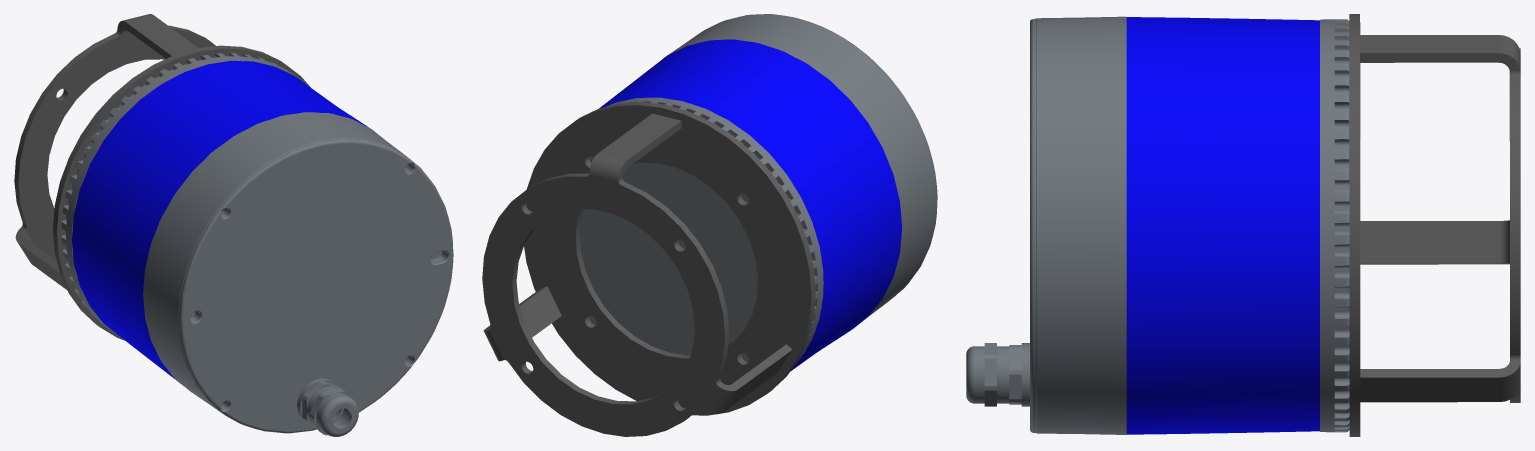
Rendered from sensor_lidar_visual.obj.
The picture shows the model from 3 angles, left to right: view 1: azimuth 30°, elevation 25°; view 2: azimuth 150°, elevation 25°; view 3: azimuth 270°, elevation 25°; orthographic projection. The views are drawn at different scales.
Parts seen in each view (by area): view 1: BTM_13_73_119_6.001, ZHAO_1_1_4_4_2.001, 雷达_雷神M10支架_1.001, 雷达_雷神M10支架_001.001, __V20_1_11_29_2.001, WATERPROOF-CONNECTOR_1.001; view 2: 雷达_雷神M10支架_001.001, ZHAO_1_1_4_4_2.001, 雷达_雷神M10支架_1.001, __V20_1_11_29_2.001, BTM_13_73_119_6.001; view 3: ZHAO_1_1_4_4_2.001, BTM_13_73_119_6.001, 雷达_雷神M10支架_1.001, __V20_1_11_29_2.001, 雷达_雷神M10支架_001.001, WATERPROOF-CONNECTOR_1.001.
Part boxes in pixels (<box>): BTM_13_73_119_6.001: <box>143,112,453,433</box>; ZHAO_1_1_4_4_2.001: <box>72,61,369,385</box>; 雷达_雷神M10支架_1.001: <box>14,14,215,290</box>; 雷达_雷神M10支架_001.001: <box>53,45,310,340</box>; __V20_1_11_29_2.001: <box>61,53,299,335</box>; WATERPROOF-CONNECTOR_1.001: <box>302,381,358,436</box>; 雷达_雷神M10支架_001.001: <box>524,102,815,415</box>; ZHAO_1_1_4_4_2.001: <box>599,39,901,371</box>; 雷达_雷神M10支架_1.001: <box>482,113,792,436</box>; __V20_1_11_29_2.001: <box>579,97,823,363</box>; BTM_13_73_119_6.001: <box>662,14,937,328</box>; ZHAO_1_1_4_4_2.001: <box>1126,17,1319,434</box>; BTM_13_73_119_6.001: <box>1021,16,1126,434</box>; 雷达_雷神M10支架_1.001: <box>1360,35,1520,402</box>; __V20_1_11_29_2.001: <box>1320,19,1349,432</box>; 雷达_雷神M10支架_001.001: <box>1349,14,1360,436</box>; WATERPROOF-CONNECTOR_1.001: <box>966,343,1021,406</box>.
Bounding box in the file's own units: 0.1029 × 0.1029 × 0.1349.
